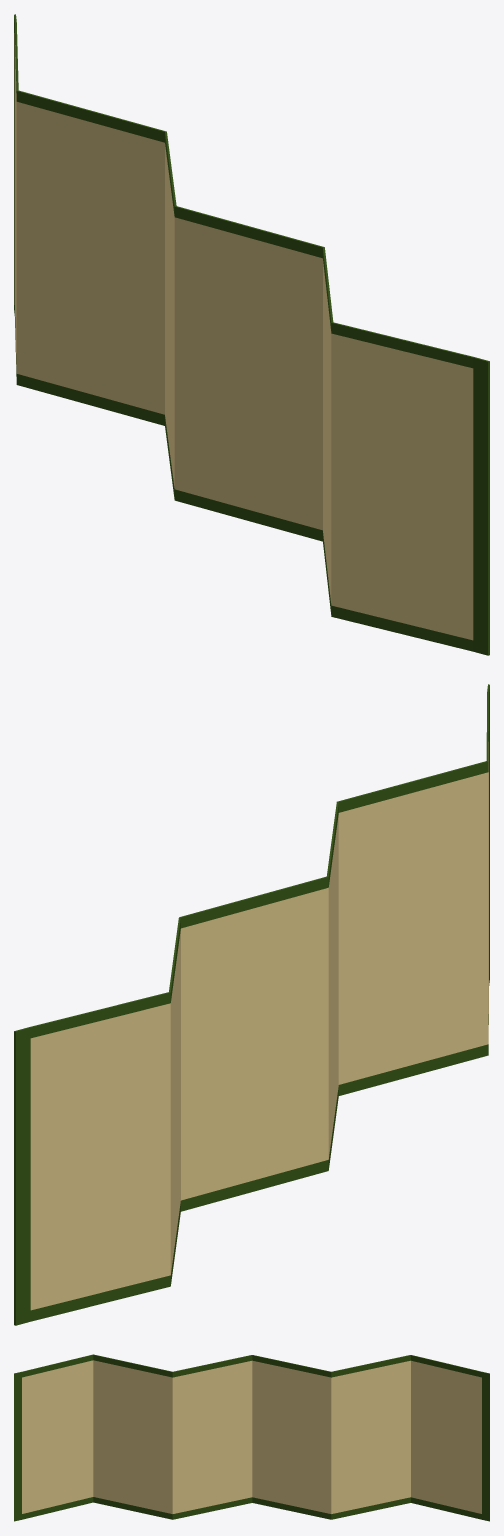
File: Folding Screen.fbx
3 views of the same model, one above another, from view 1: azimuth 30°, elevation 25°; view 2: azimuth 150°, elevation 25°; view 3: azimuth 270°, elevation 25° (orthographic). The views are drawn at different scales.
Parts seen in each view (by area): view 1: Plane; view 2: Plane; view 3: Plane.
Part boxes in pixels (x1=…): Plane: x1=14, y1=14, x2=489, y2=655; Plane: x1=14, y1=684, x2=489, y2=1325; Plane: x1=14, y1=1354, x2=489, y2=1521.
Bounding box in the file's own units: 116 × 411 × 1200.
